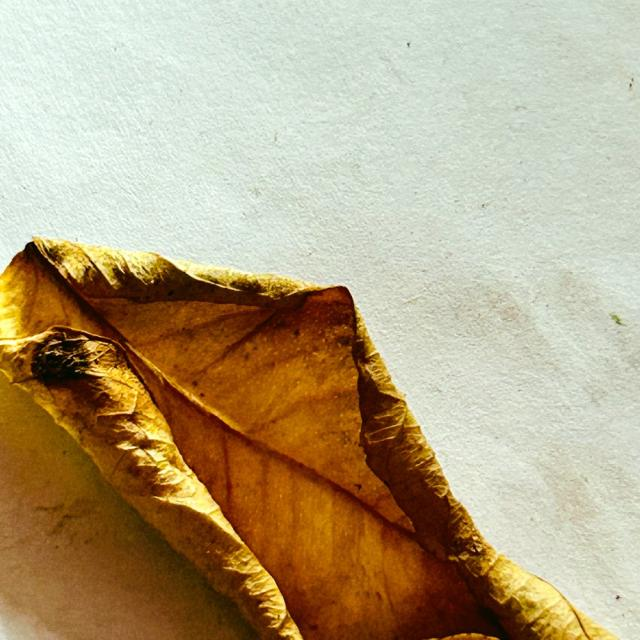DryLeaf_Lemon: (0, 239, 615, 639)
